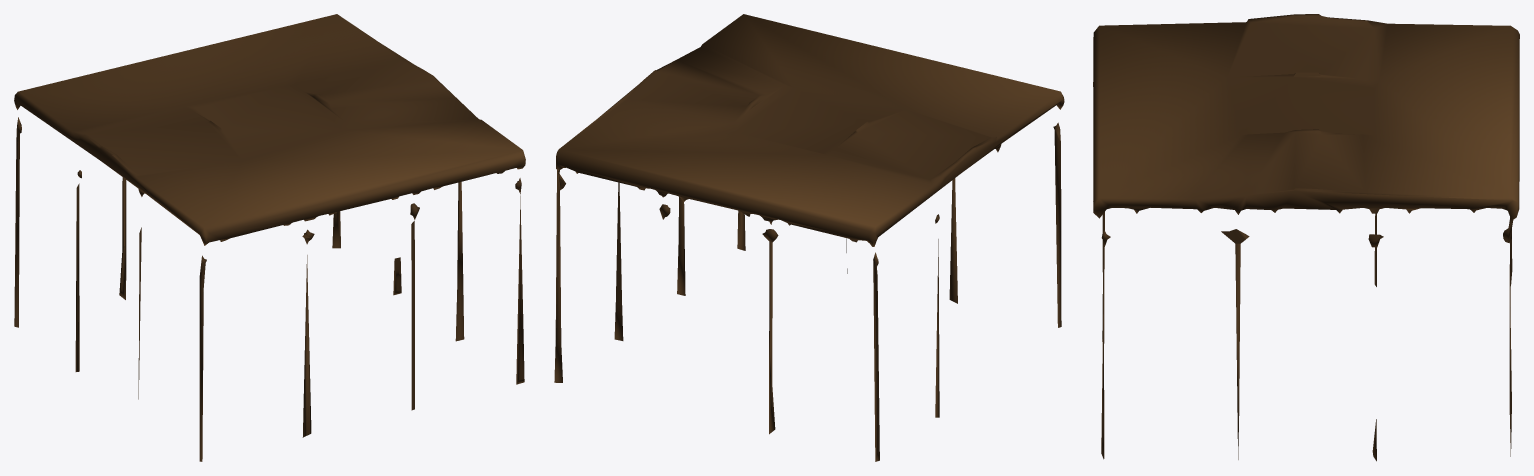
File: Pergolas and open houses(2).glb
3 renders of one model, left to right at view 1: azimuth 30°, elevation 25°; view 2: azimuth 150°, elevation 25°; view 3: azimuth 270°, elevation 25°, orthographic. The views are drawn at different scales.
Parts seen in each view (by area): view 1: Root.003, Root.006, Root.001, Root.004, Root.005, Root.002; view 2: Root.003, Root.001, Root.007, Root.004, Root.002; view 3: Root.003, Root.006.
Boxes of the visible parts, x1,y1,x2,y2 form: Root.003: (14,14,525,341); Root.006: (515,178,524,384); Root.001: (199,255,206,461); Root.004: (302,255,311,437); Root.005: (410,203,419,410); Root.002: (75,183,79,371); Root.003: (554,14,1064,461); Root.001: (1053,122,1061,327); Root.007: (614,182,623,340); Root.004: (949,178,957,303); Root.002: (935,239,939,417); Root.003: (1093,14,1519,459); Root.006: (1101,230,1110,459).
Size of the model in its own units: 5.23 by 3.75 by 5.34.
